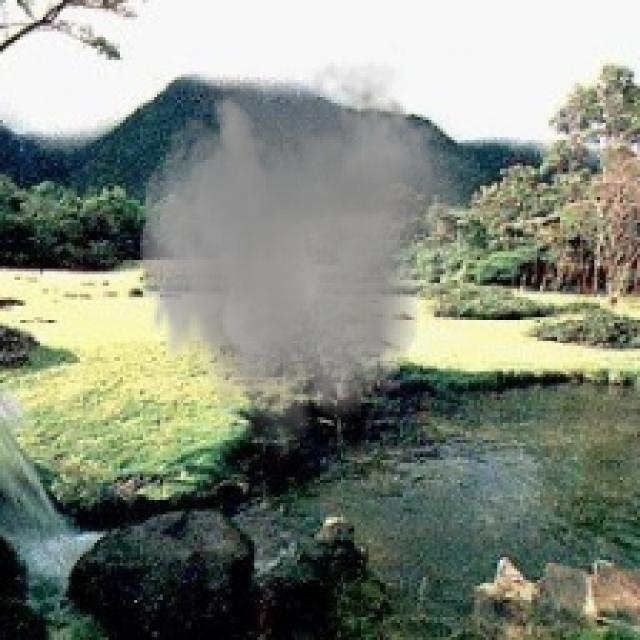smoke: (132, 43, 488, 466)
